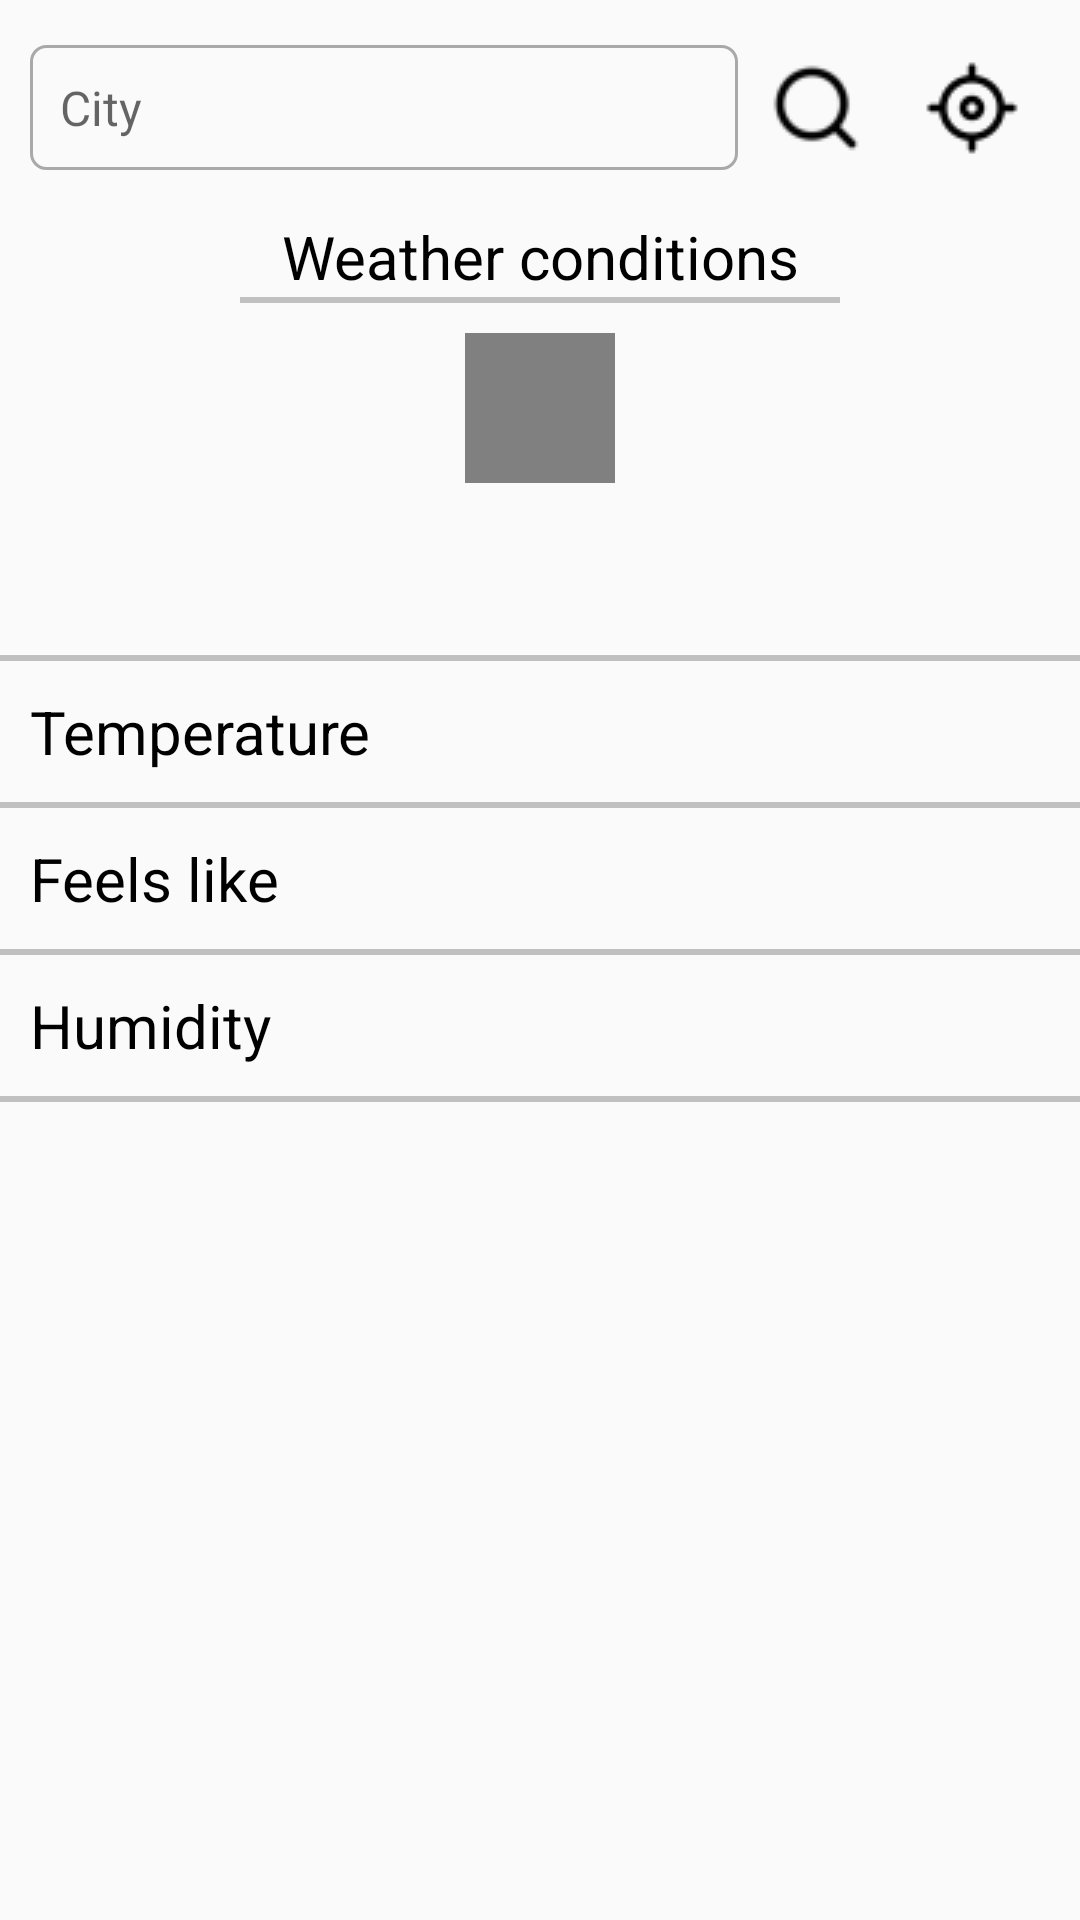

Where icons sit on this 1080x1920 app screen, as (x1, y1, x2, y2):
location: (926, 62, 1018, 154)
search: (773, 65, 858, 150)
